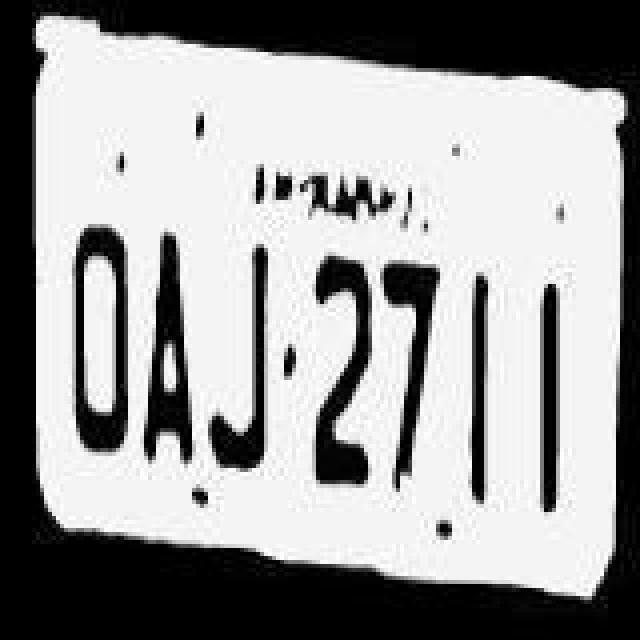1: (526, 258, 578, 522), (454, 252, 506, 512)
2: (302, 246, 378, 498)
7: (374, 254, 442, 490)
A: (134, 220, 202, 472)
J: (208, 240, 280, 476)
O: (58, 218, 134, 474)
